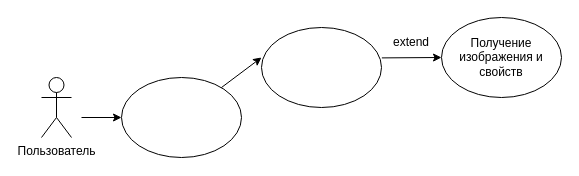
This 579x176 diagram has some shape labels left out. Each missing label, with the centre of its shape:
"Выбрать изображение" goes at (181,117).
"Выбрать файл" goes at (321,67).
